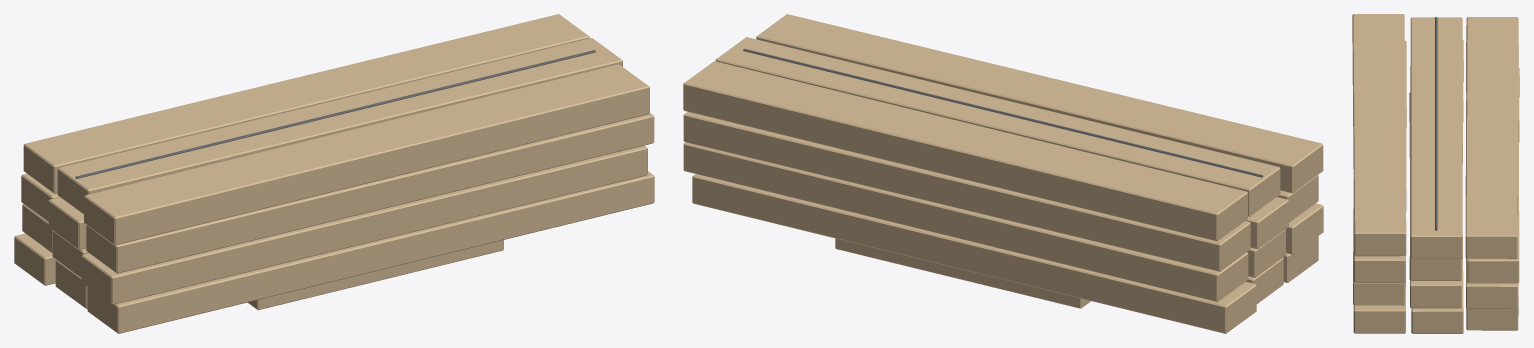
Rendered from garden-centre-and-florist-sleeper-stack-03f6c943__17791.glb.
3 views of the same model, side by side, from view 1: azimuth 30°, elevation 25°; view 2: azimuth 150°, elevation 25°; view 3: azimuth 270°, elevation 25° (orthographic). The views are drawn at different scales.
Visible parts, largest first — view 1: sleeper-stack; view 2: sleeper-stack; view 3: sleeper-stack.
Boxes of the visible parts, box(x1,y1,x2,y2) form: sleeper-stack: box(14, 14, 654, 333); sleeper-stack: box(683, 14, 1323, 333); sleeper-stack: box(1352, 14, 1519, 333).
Bounding box in the file's own units: 2.43 × 0.5711 × 0.7699.
